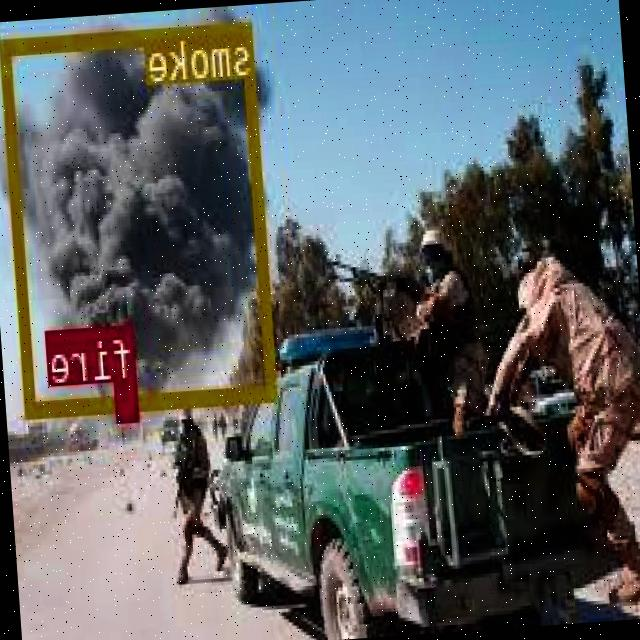fire: (118, 378, 140, 420)
smoke: (0, 19, 279, 415)
